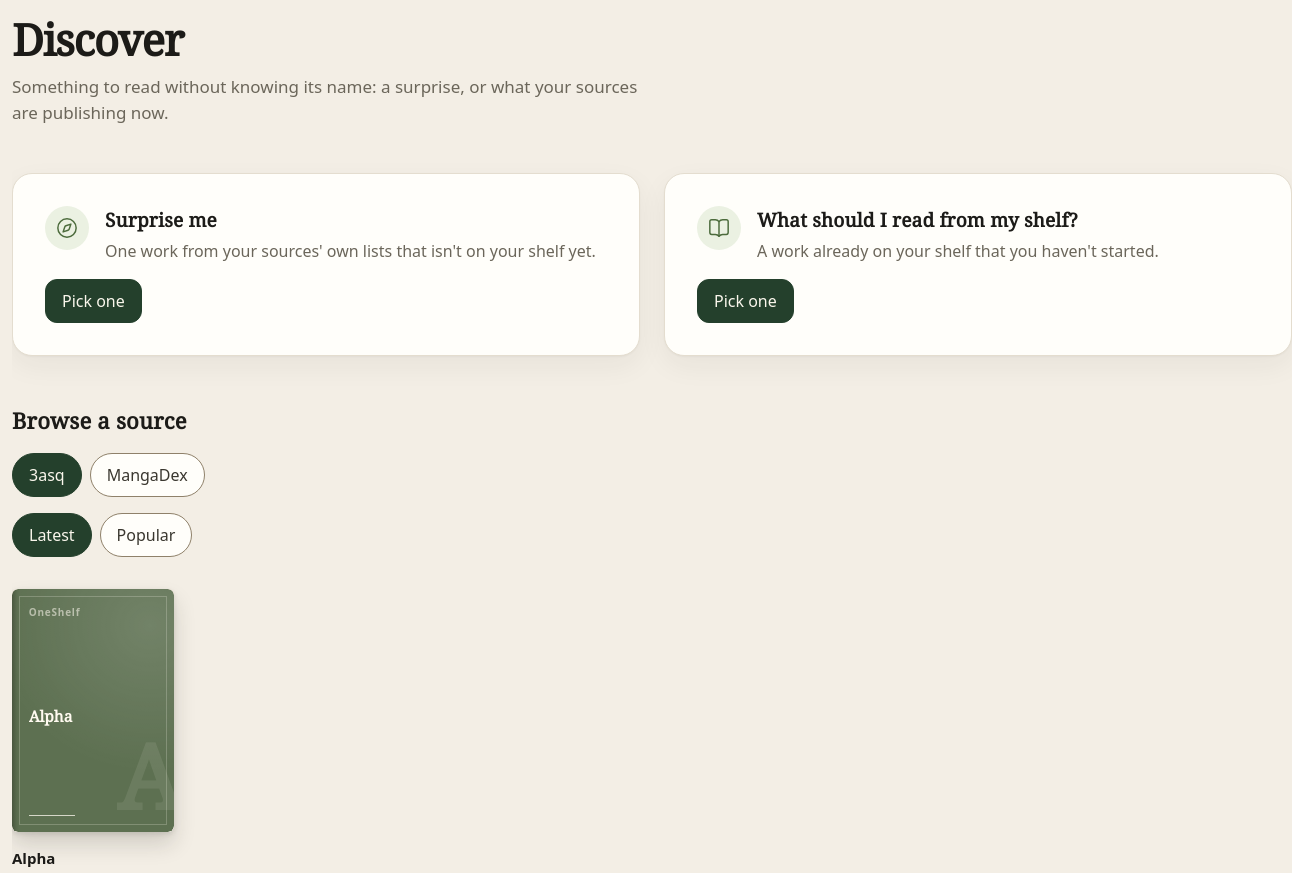
Test: Discover › suggests a work from the shelf that is not started, or says there is none
The width and height of the screenshot is (1292, 873).
Check: the text "Alpha" is shown, box [12, 848, 55, 868]
Click the button "Pick one" below "What should I read from my shelf?". click: (745,301)
box: [697, 279, 794, 323]
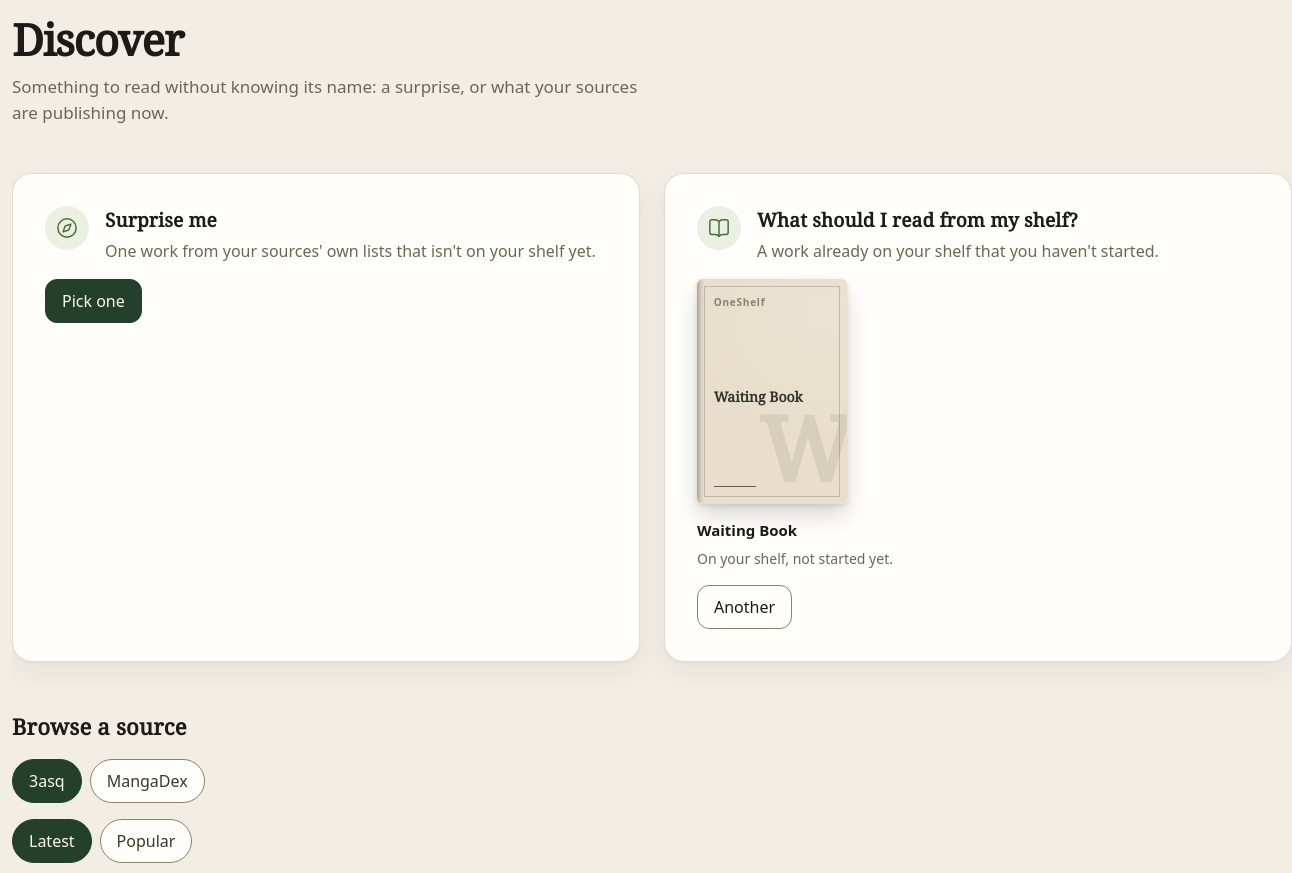
Check: the text "On your shelf, not started yet." is shown, box [697, 548, 893, 569]
Click the button "Another". click: (745,607)
box: [697, 585, 792, 629]
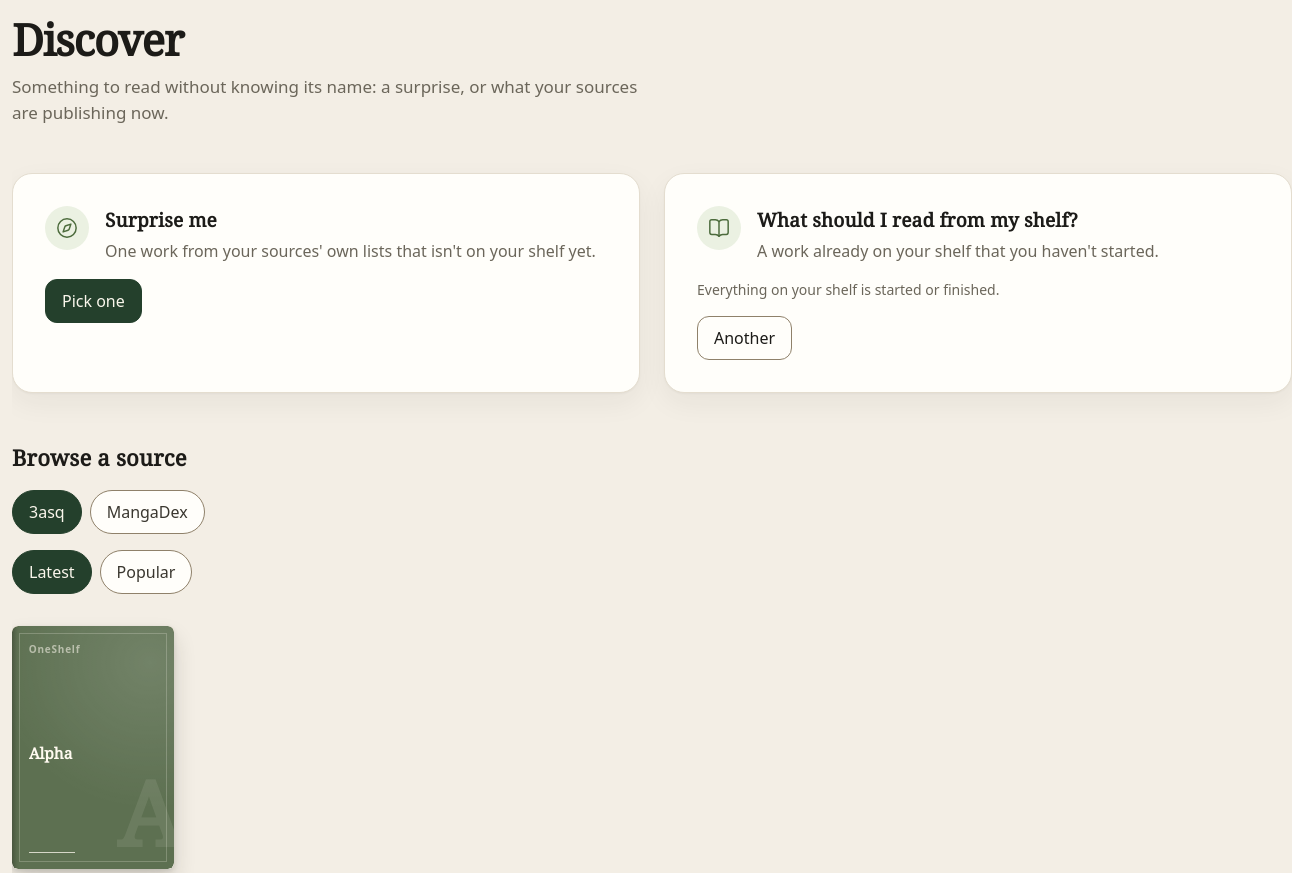
Check: the text "Everything on your shelf is started or finished." is shown, box [697, 279, 1000, 300]
